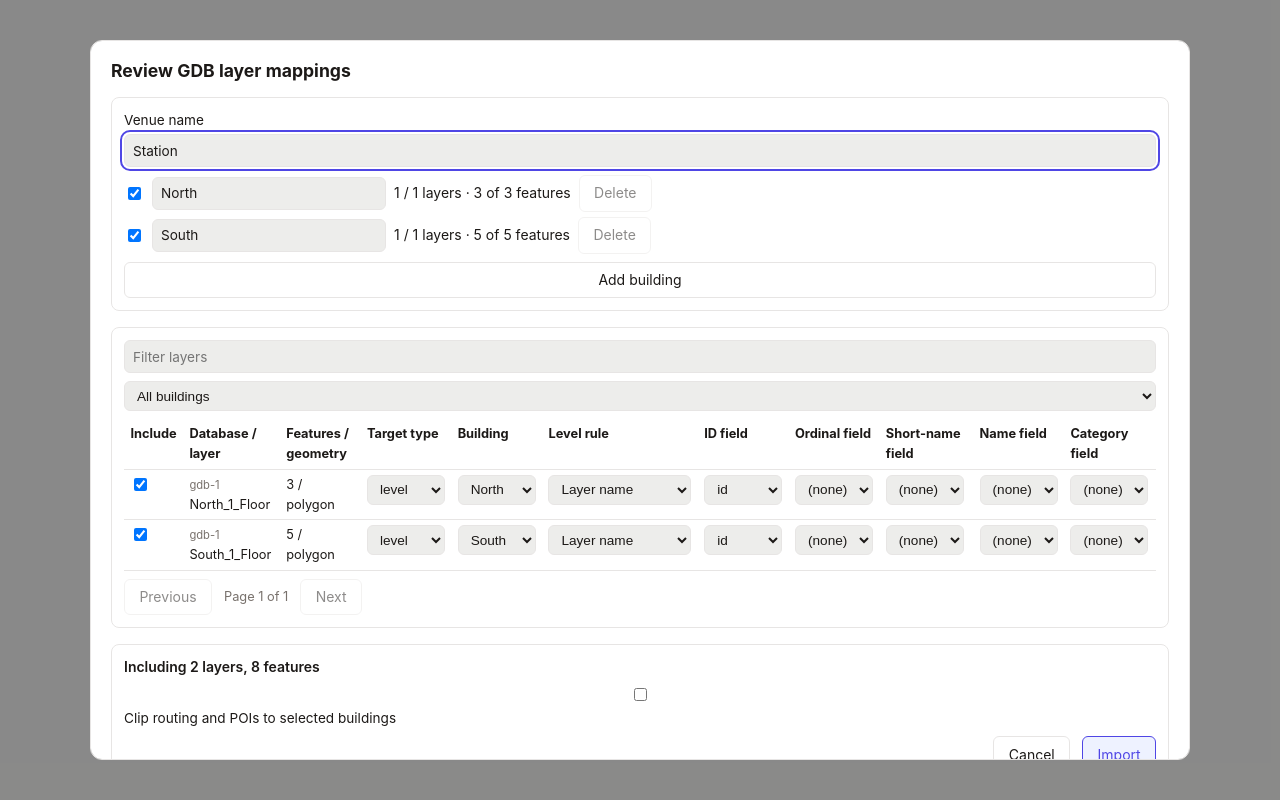
Test: GdbImportDialog › suggests the building name when exactly one building is selected
The image size is (1280, 800).
Click the checkbox named "Include South" at (134, 235), box [128,229,141,242]
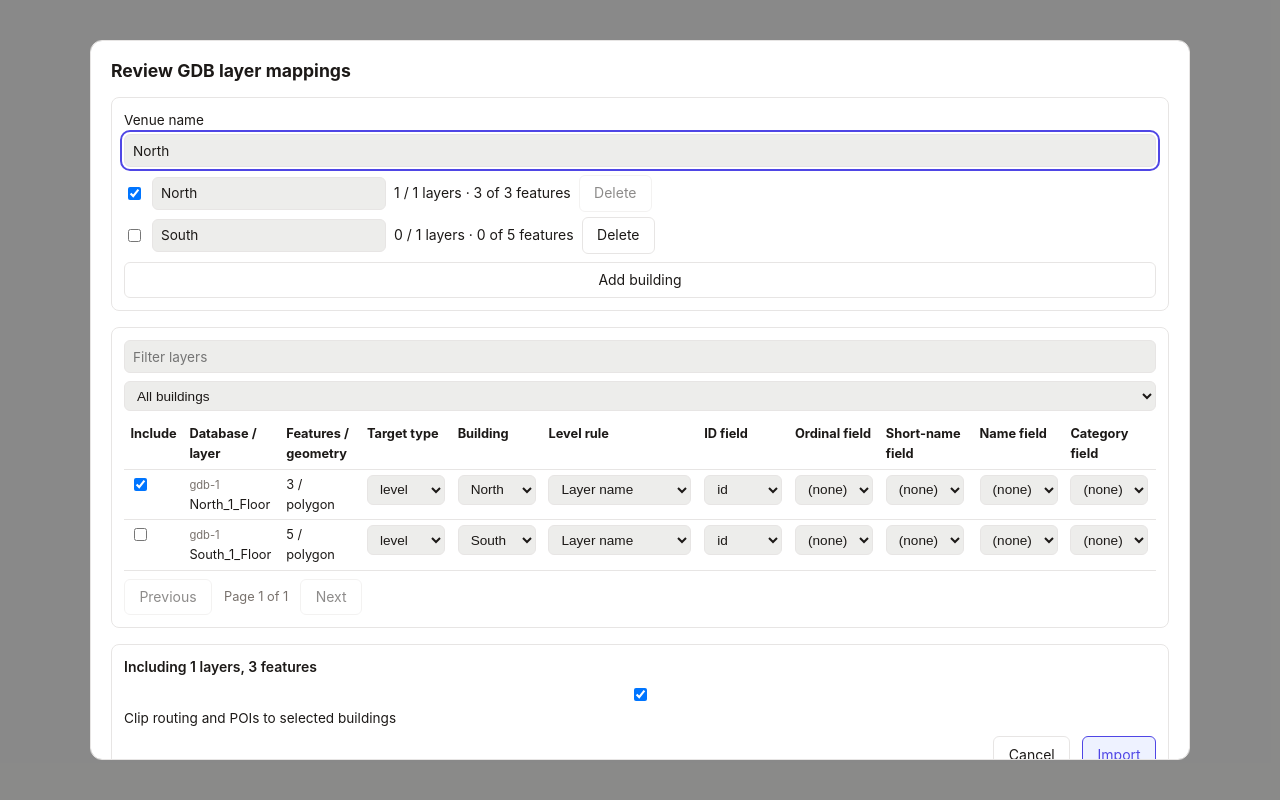
Expected: the field labelled "Venue name" holds "North", [124,134,1156,167]
